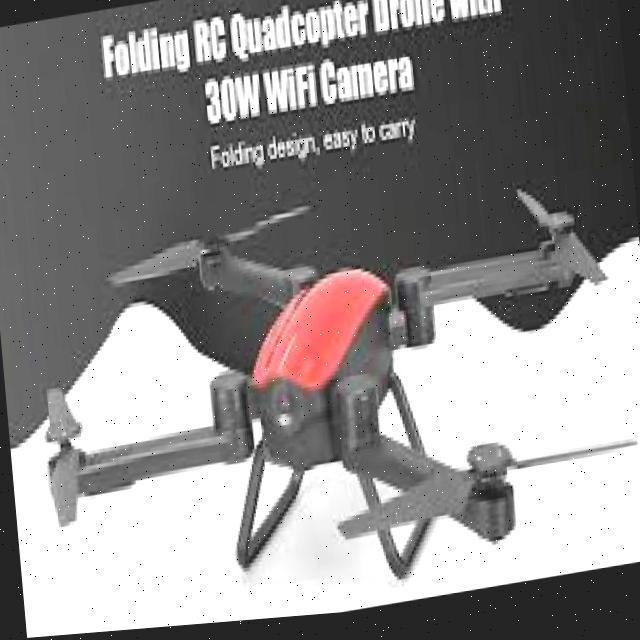drone: (23, 146, 640, 639)
